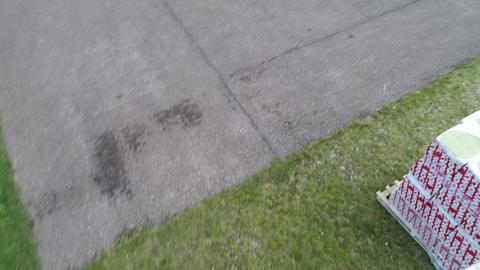RockwoolPallet: (387, 108, 480, 270)
